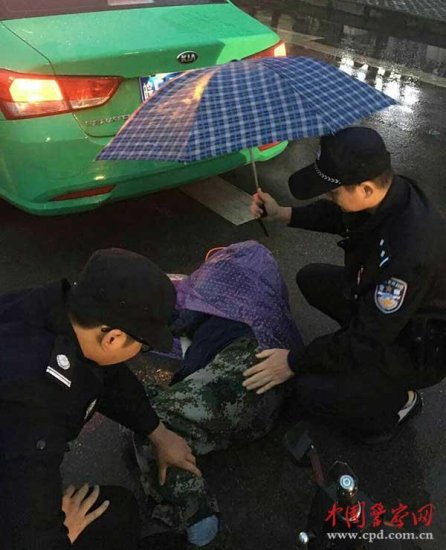fall: (122, 224, 322, 510)
